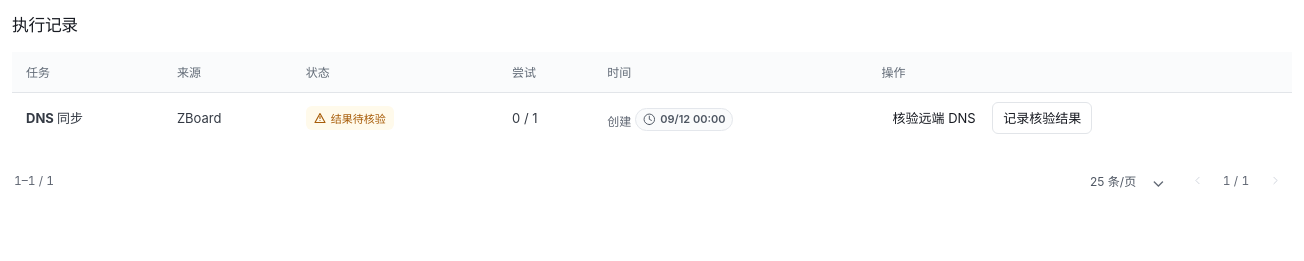
Scenario: queues DNS inspection without resolving the original unknown outcome
The image size is (1304, 261).
What coordinates should you click on to do the following:
click the button "核验远端 DNS"
I would click on:
 (934, 118)
Its box is [882, 102, 987, 134].
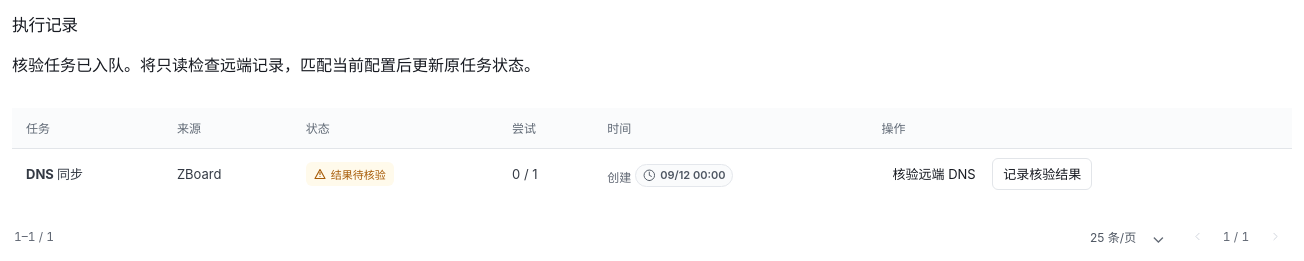
Expected: the text "结果待核验" is shown, [331, 166, 386, 182]
Now the text "核验任务已入队" is shown, box [12, 55, 540, 75]
